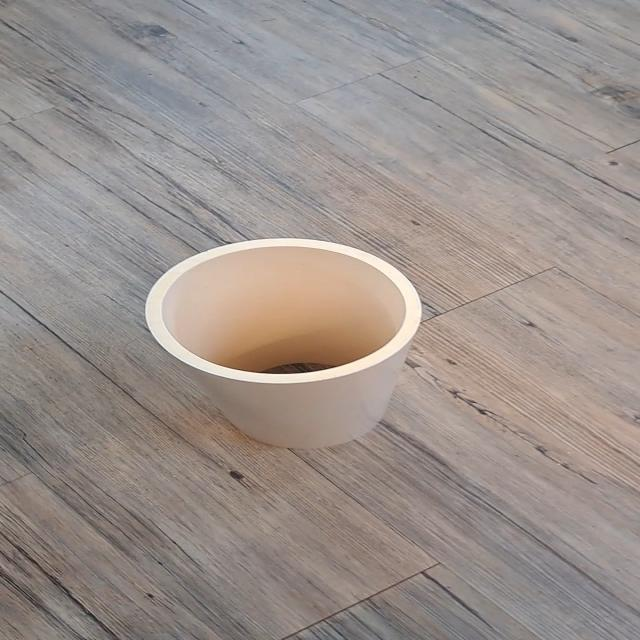CORAL: (98, 212, 452, 464)
